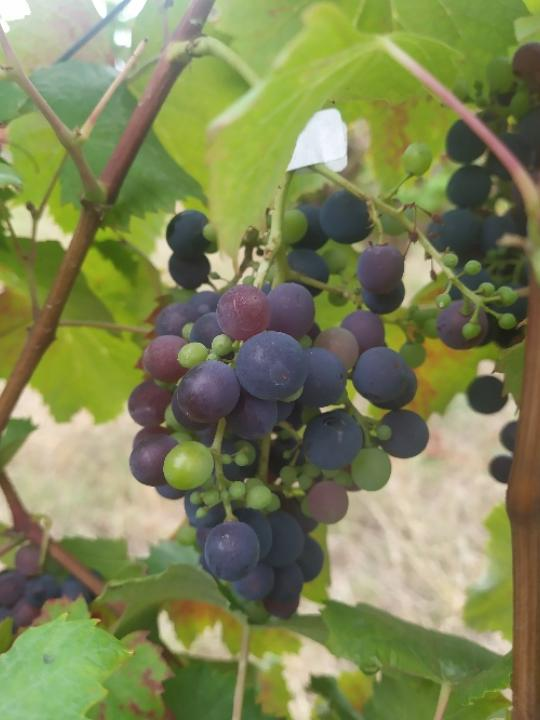grape: (126, 138, 431, 623)
